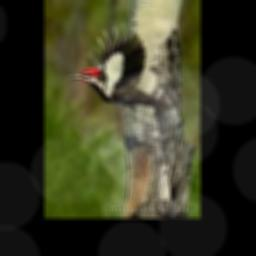Woodpecker: (66, 24, 176, 114)
